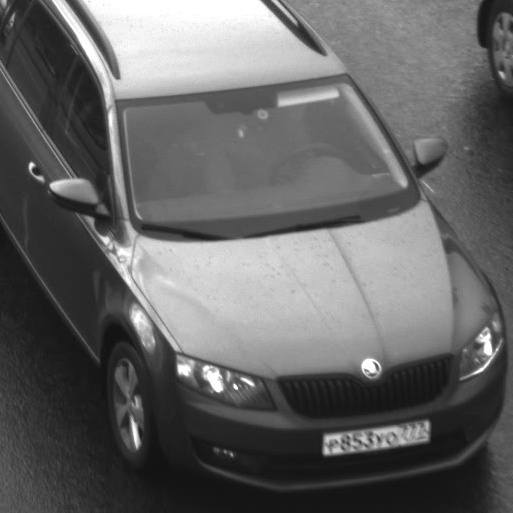plate: (311, 408, 440, 463)
